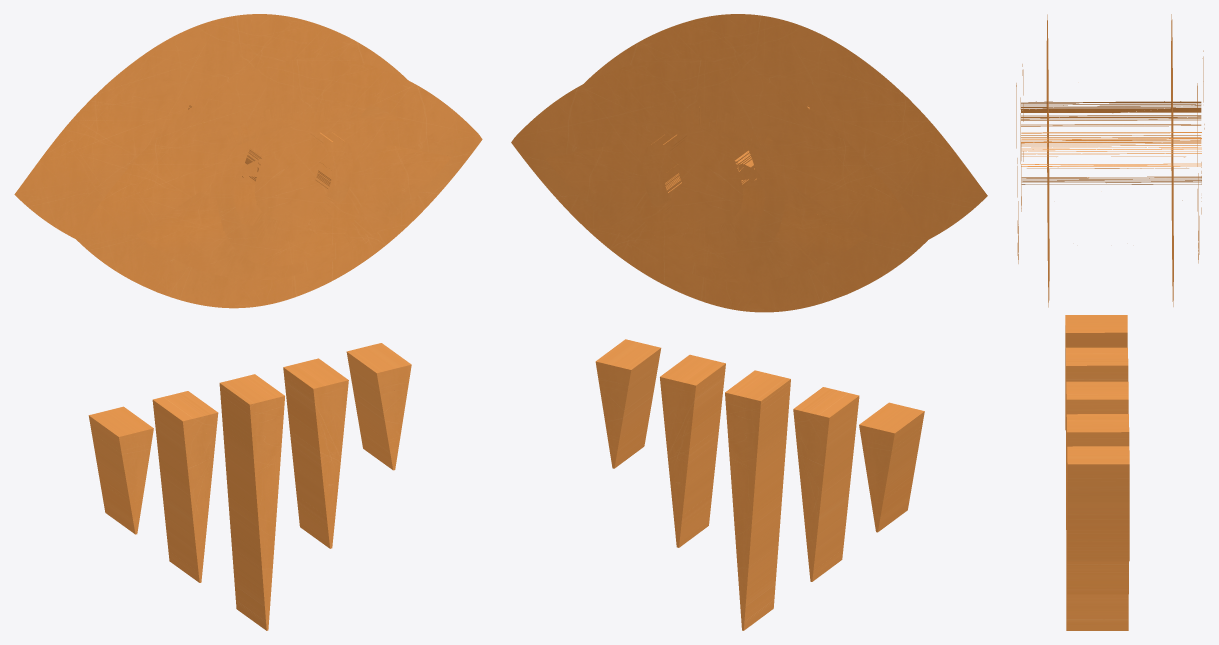
The model's file is watcher-ember.glb.
3 renders of one model, left to right at view 1: azimuth 30°, elevation 25°; view 2: azimuth 150°, elevation 25°; view 3: azimuth 270°, elevation 25°, orthographic. The views are drawn at different scales.
Visible parts, largest first — view 1: eye_out001_02 - Default_0, spikes002_02 - Default_0; view 2: eye_out001_02 - Default_0, spikes002_02 - Default_0; view 3: spikes002_02 - Default_0, eye_out001_02 - Default_0.
Boxes of the visible parts, box(x1,y1,x2,y2) form: eye_out001_02 - Default_0: box(14, 14, 482, 308); spikes002_02 - Default_0: box(88, 343, 411, 630); eye_out001_02 - Default_0: box(511, 14, 987, 312); spikes002_02 - Default_0: box(595, 339, 924, 630); spikes002_02 - Default_0: box(1065, 315, 1129, 630); eye_out001_02 - Default_0: box(1016, 14, 1204, 307).
Bounding box in the file's own units: 0.4112 × 0.55 × 0.157.
Materials: 1 (1 with a texture image).
